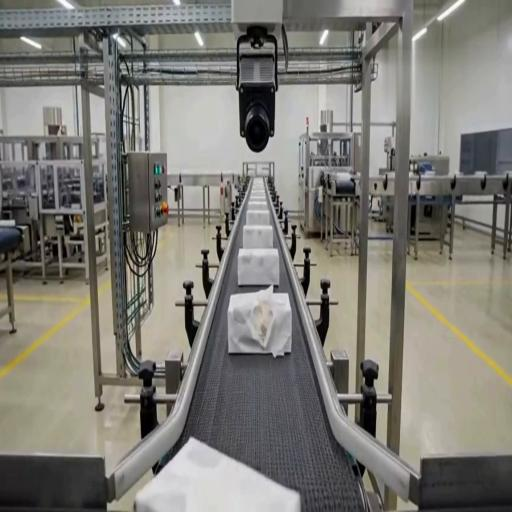defective: (136, 433, 299, 511), (227, 286, 293, 356)
good: (237, 247, 280, 288), (242, 224, 275, 250), (246, 208, 272, 226), (246, 200, 270, 214)
